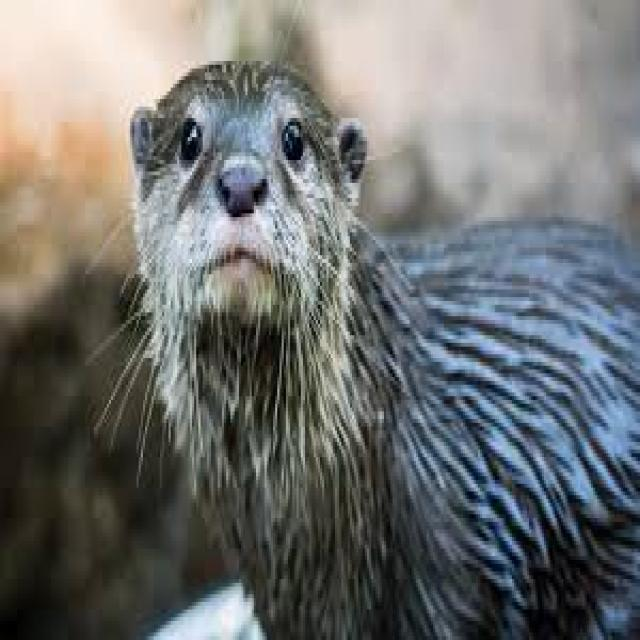Otter: (135, 46, 640, 640)
